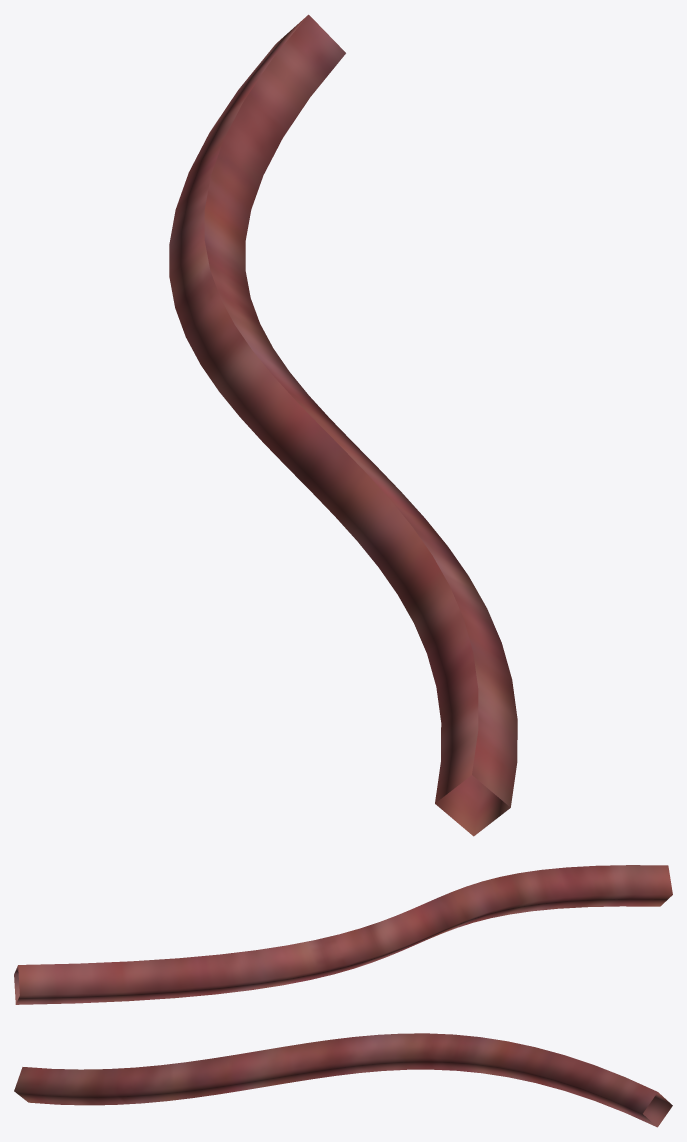
File: hepatic_artery.obj
3 views of the same model, one above another, from view 1: azimuth 30°, elevation 25°; view 2: azimuth 150°, elevation 25°; view 3: azimuth 270°, elevation 25° (orthographic). The views are drawn at different scales.
Parts seen in each view (by area): view 1: hepatic_artery_CUBezierCurve.005; view 2: hepatic_artery_CUBezierCurve.005; view 3: hepatic_artery_CUBezierCurve.005.
Boxes of the visible parts, x1,y1,x2,y2 form: hepatic_artery_CUBezierCurve.005: (169, 14, 517, 836); hepatic_artery_CUBezierCurve.005: (14, 865, 672, 1004); hepatic_artery_CUBezierCurve.005: (14, 1033, 672, 1127).
Bounding box in the file's own units: 2.08 × 0.9558 × 4.6.
